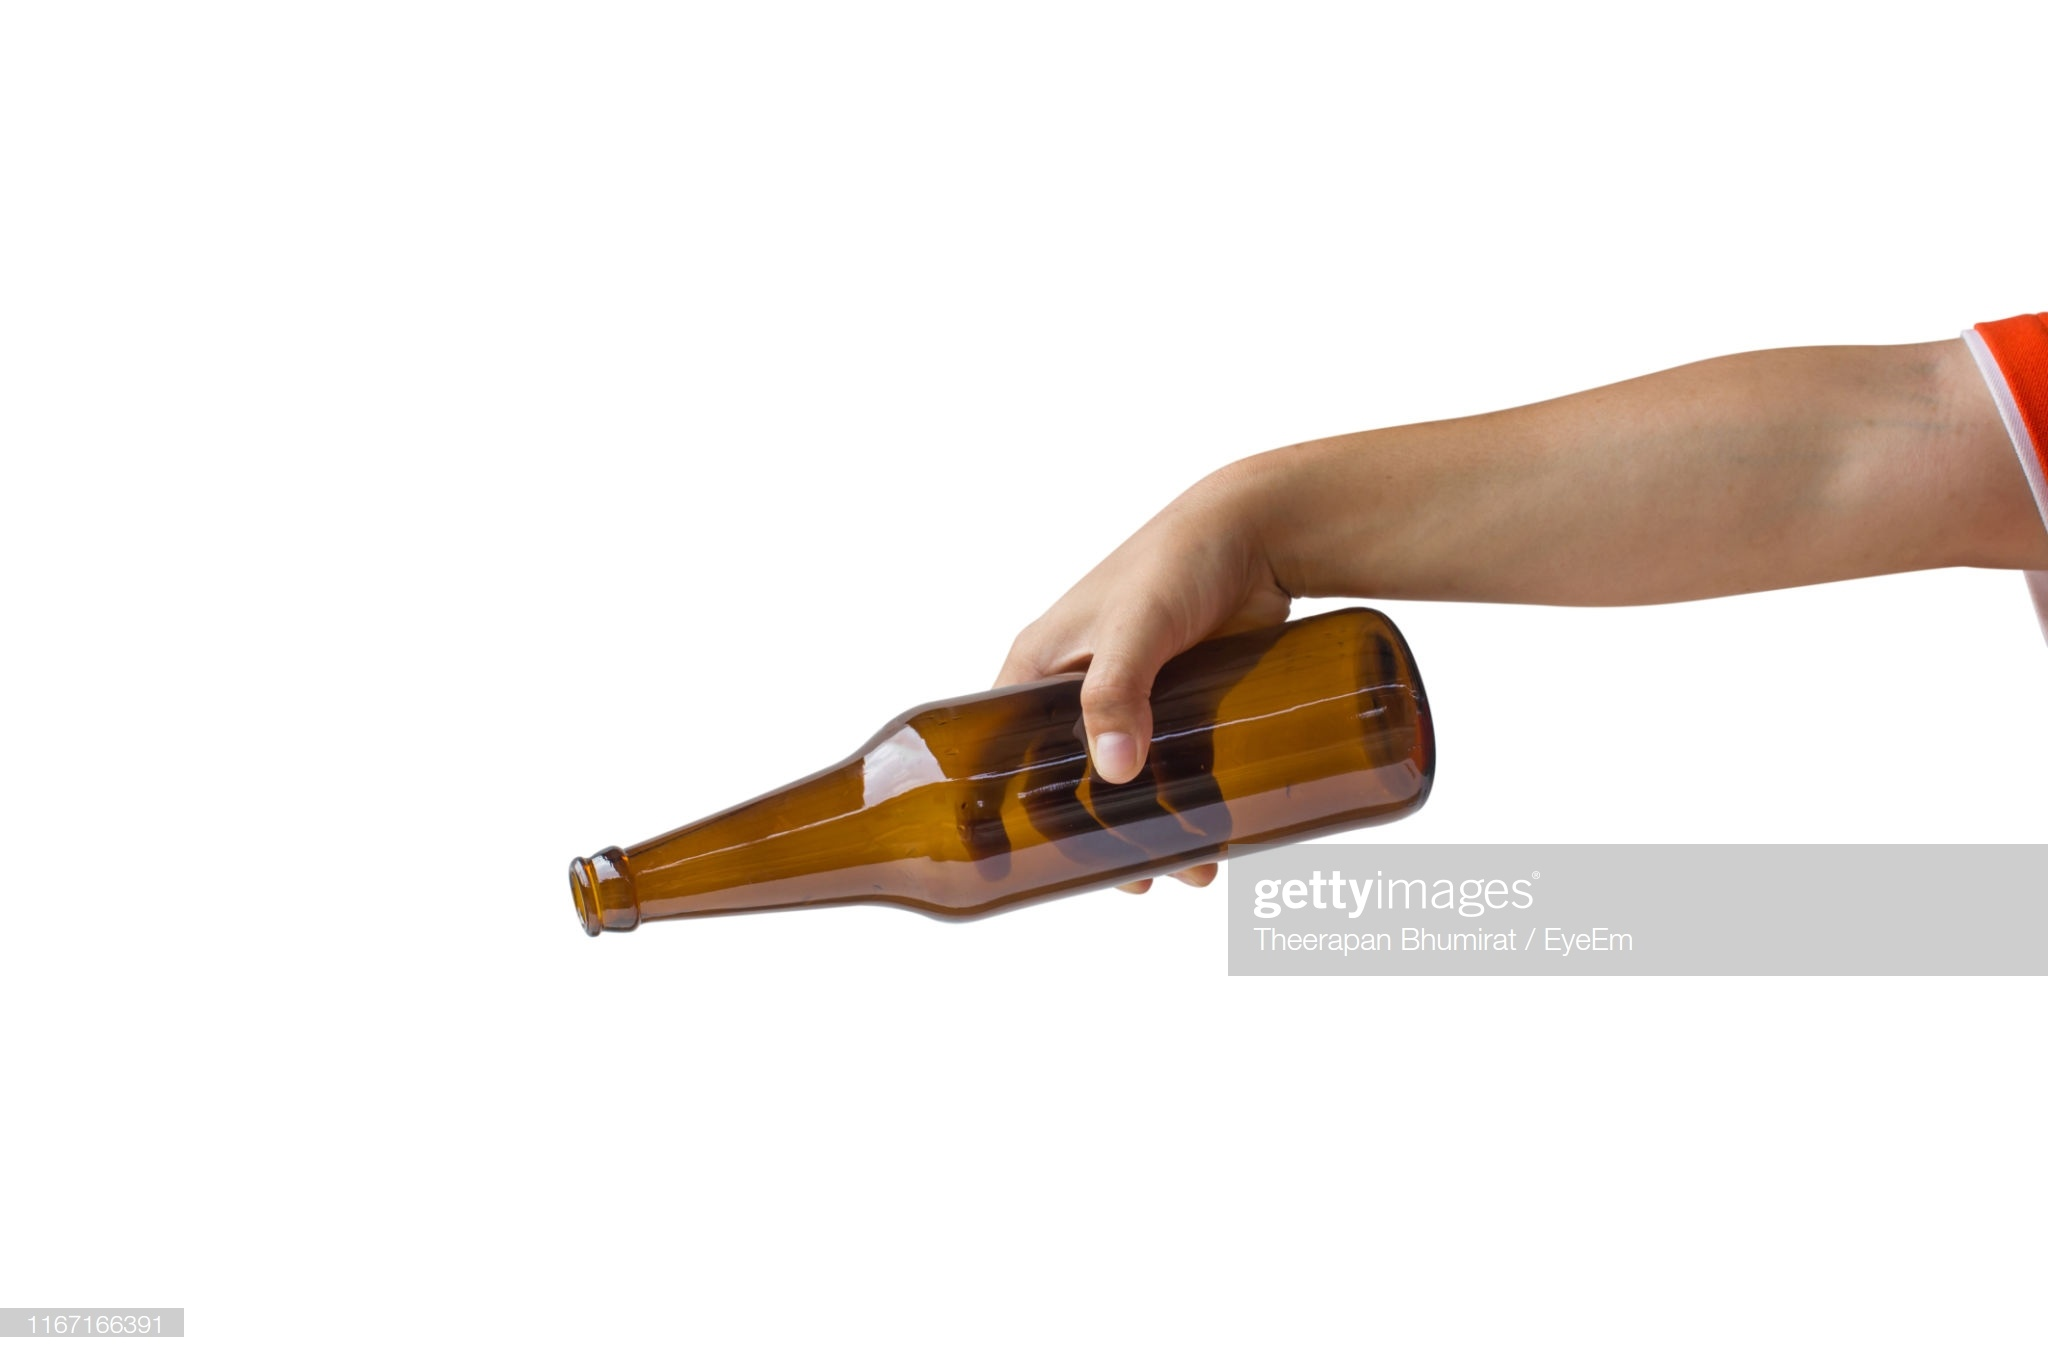beerBottle: (565, 615, 1445, 958)
